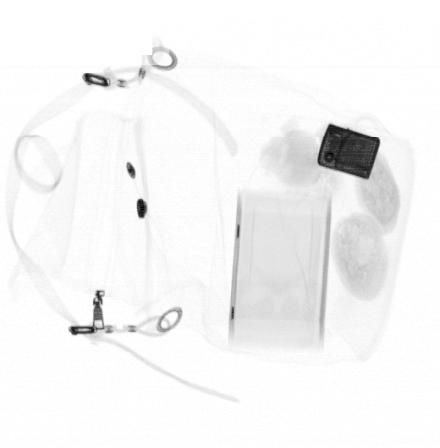Lighter: (317, 123, 382, 180)
